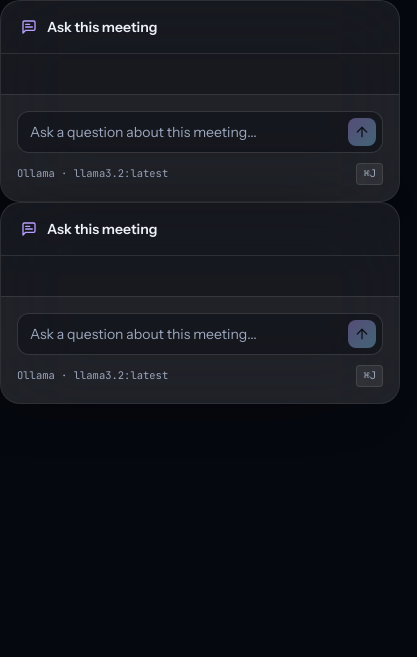
AskMeetingPanel concurrent requests to different meetings › two AskMeetingPanel instances for two different meetings do not cross-contaminate answers, even when the slower one resolves last
Type "What did A decide?" into the 1st text box with placeholder "Ask a question about this meeting...".
click(182, 132); type("What did A decide?")  # box top-left (24, 118), bottom-right (340, 146)
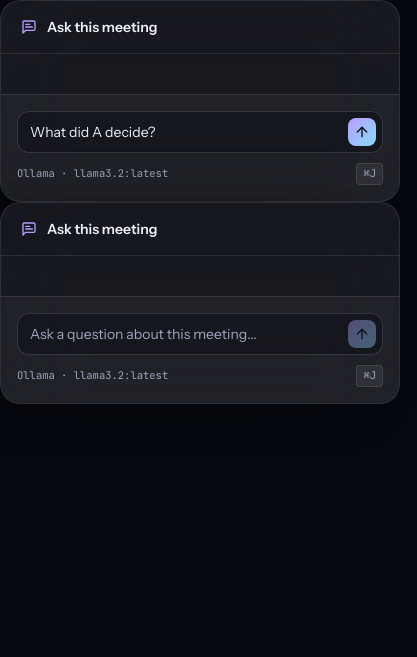
Click the 1st button named "ask".
click(362, 132)  # box top-left (348, 118), bottom-right (376, 146)
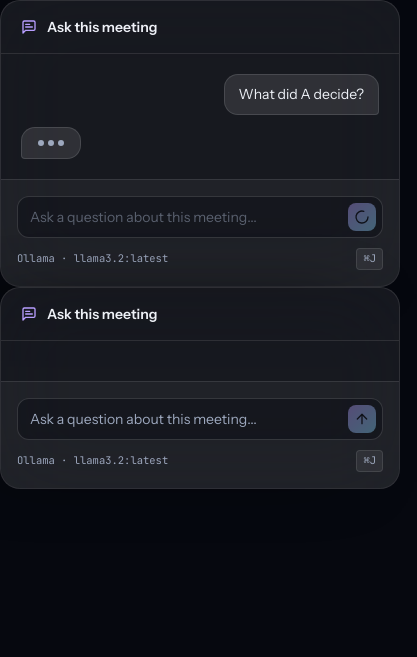
Type "What did B decide?" into the 2nd text box with placeholder "Ask a question about this meeting...".
click(182, 419); type("What did B decide?")  # box top-left (24, 405), bottom-right (340, 433)
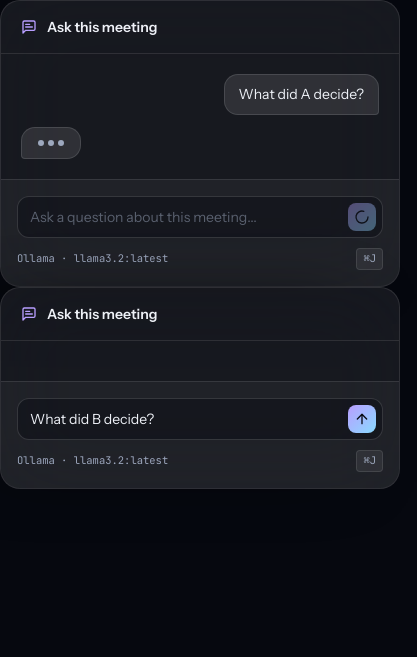
Click the 2nd button named "ask".
click(362, 419)  # box top-left (348, 405), bottom-right (376, 433)
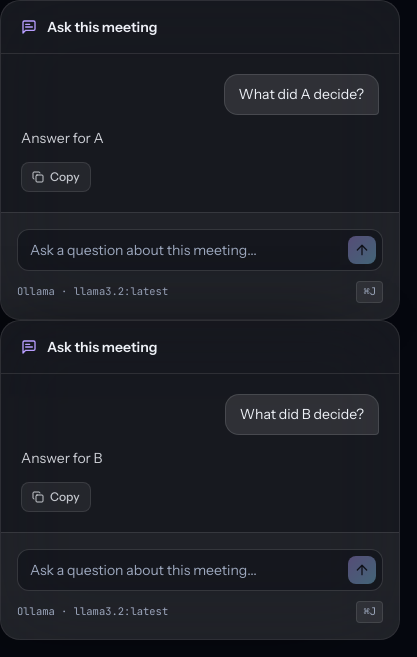
Check: the text "Answer for B" is shown, box top-left (21, 449), bottom-right (102, 467)
Check: the text "Answer for A" is shown, box top-left (21, 129), bottom-right (104, 147)
